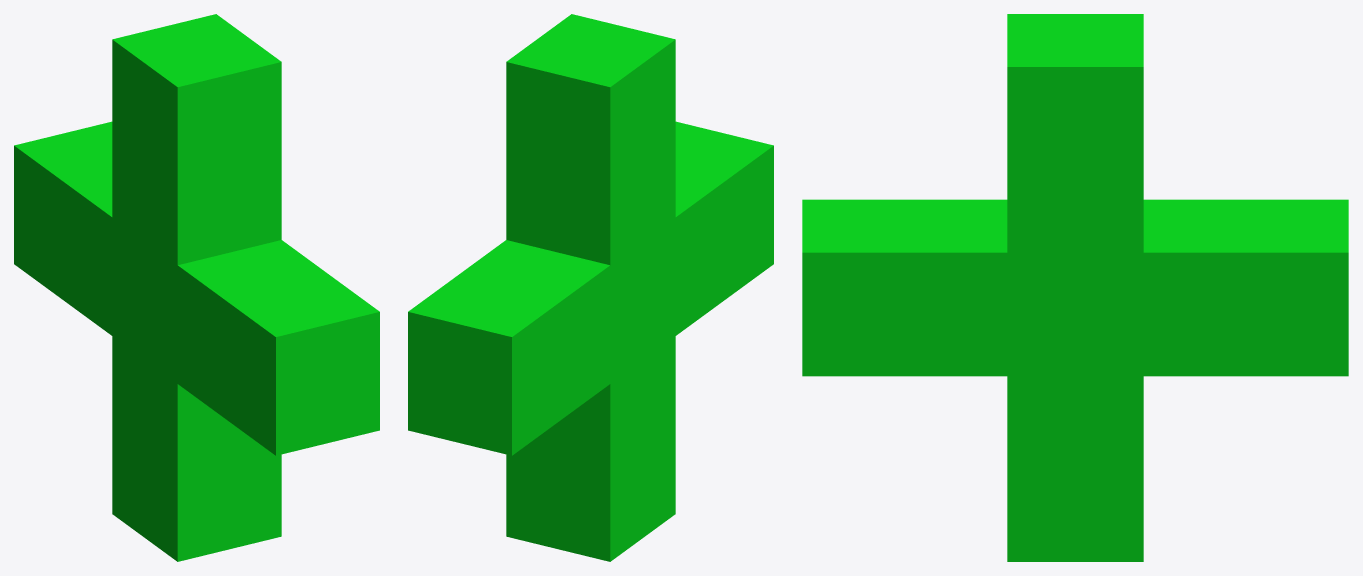
The model's file is Vita.fbx.
3 views of the same model, side by side, from view 1: azimuth 30°, elevation 25°; view 2: azimuth 150°, elevation 25°; view 3: azimuth 270°, elevation 25° (orthographic). The views are drawn at different scales.
Parts seen in each view (by area): view 1: Cube; view 2: Cube; view 3: Cube.
Boxes of the visible parts, x1,y1,x2,y2 form: Cube: [14, 14, 379, 561]; Cube: [408, 14, 773, 561]; Cube: [802, 14, 1348, 561].
Size of the model in its own units: 45.88 by 200 by 200.
